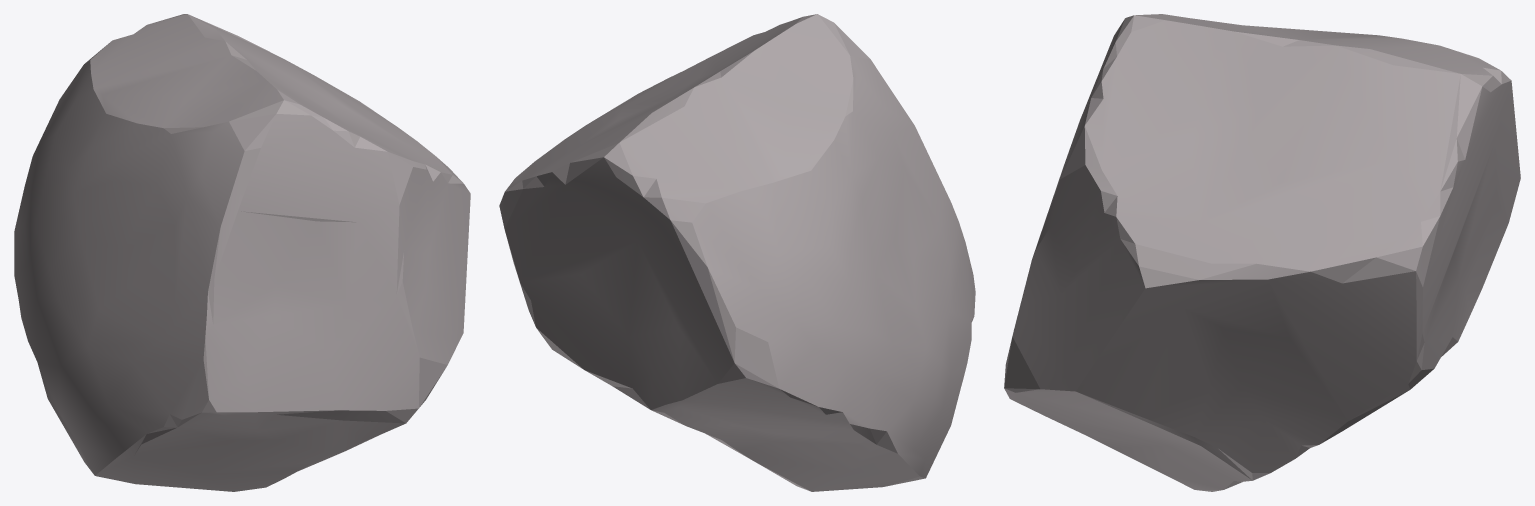
File: Rock3.fbx
3 renders of one model, left to right at view 1: azimuth 30°, elevation 25°; view 2: azimuth 150°, elevation 25°; view 3: azimuth 270°, elevation 25°, orthographic. The views are drawn at different scales.
Parts seen in each view (by area): view 1: GeoSphere002; view 2: GeoSphere002; view 3: GeoSphere002.
Boxes of the visible parts, box(x1,y1,x2,y2) form: GeoSphere002: box(14, 14, 470, 491); GeoSphere002: box(499, 14, 975, 491); GeoSphere002: box(1004, 14, 1520, 491).
Size of the model in its own units: 20.3 by 22.89 by 22.49.
Materials: 1 (1 with a texture image).
